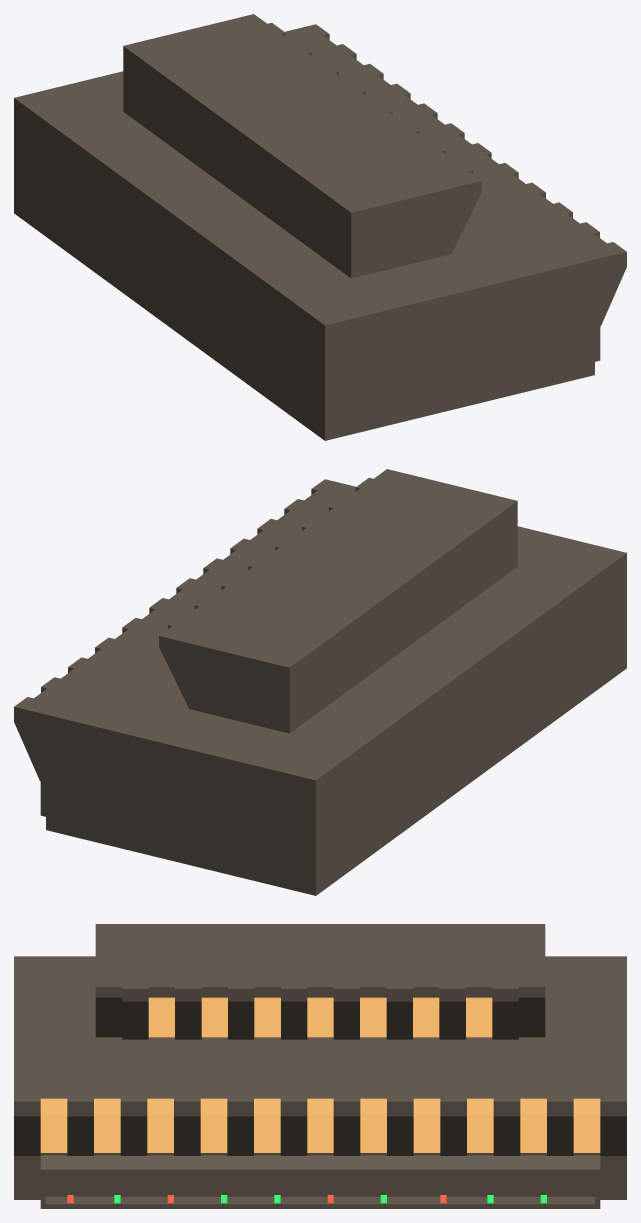
The model's file is Plastic_Delivery_Warehouse.glb.
3 views of the same model, one above another, from view 1: azimuth 30°, elevation 25°; view 2: azimuth 150°, elevation 25°; view 3: azimuth 270°, elevation 25° (orthographic).
Visible parts, largest first — view 1: Cube, Cube.001; view 2: Cube, Cube.001; view 3: Cube, Cube.001, Cube.004.
Boxes of the visible parts, box(x1,y1,x2,y2) form: Cube: box(14, 24, 626, 440); Cube.001: box(123, 14, 481, 278); Cube: box(14, 479, 626, 895); Cube.001: box(159, 469, 517, 733); Cube: box(14, 956, 626, 1199); Cube.001: box(95, 924, 545, 1039); Cube.004: box(40, 1155, 600, 1208).
Bounding box in the file's own units: 0.8893 × 0.5101 × 1.59.
